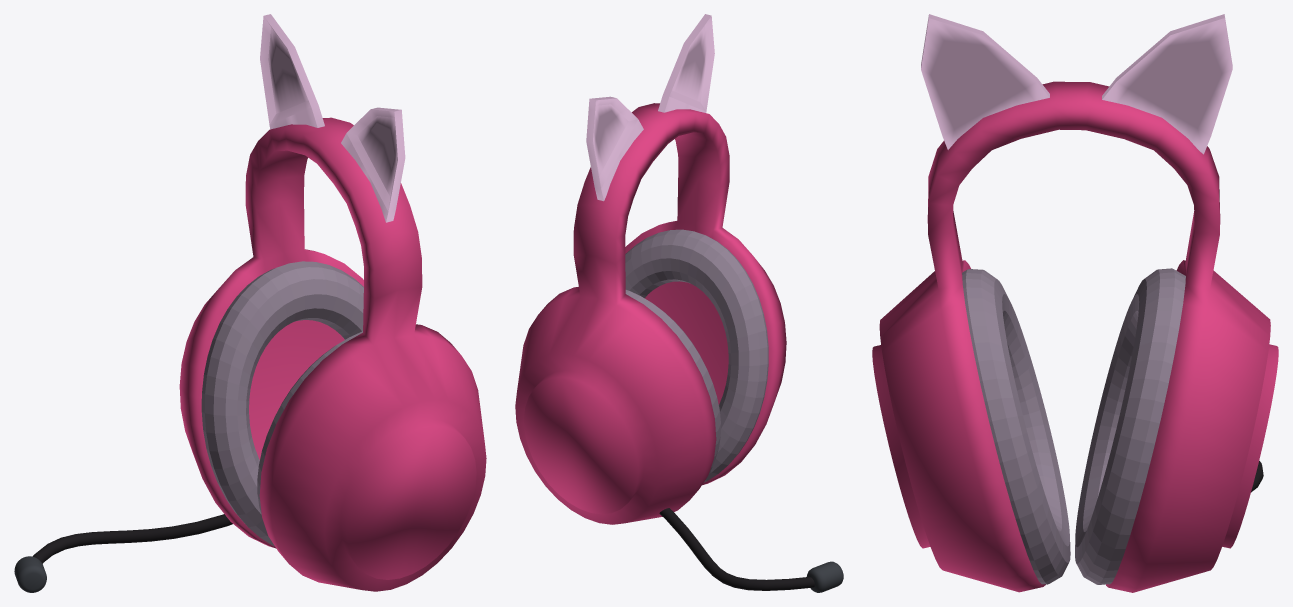
File: headset2.fbx
3 renders of one model, left to right at view 1: azimuth 30°, elevation 25°; view 2: azimuth 150°, elevation 25°; view 3: azimuth 270°, elevation 25°, orthographic. The views are drawn at different scales.
Visible parts, largest first — view 1: valmis headset; view 2: valmis headset; view 3: valmis headset.
Part boxes in pixels (bbox=[...]): valmis headset: bbox=[14, 14, 486, 592]; valmis headset: bbox=[515, 14, 843, 592]; valmis headset: bbox=[872, 14, 1278, 592].
Size of the model in its own units: 202 by 263 by 171.
